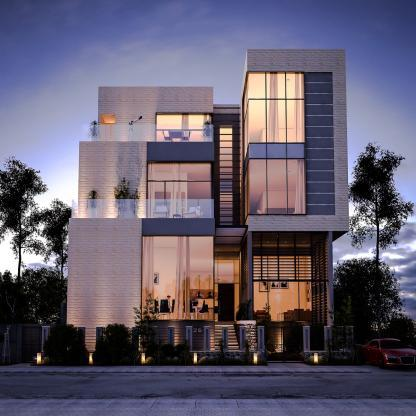Balcony: (72, 199, 215, 219), (82, 125, 213, 142)
Building Outline: (16, 48, 355, 363)
Door: (22, 327, 42, 362), (148, 182, 165, 219), (218, 284, 235, 321), (105, 123, 115, 142)
Facade: (15, 48, 356, 362)
Floor Slab: (242, 215, 350, 245), (79, 142, 214, 160), (69, 219, 215, 235), (244, 144, 305, 176)
Glass Wall: (143, 237, 214, 319), (254, 255, 313, 321)
Window: (244, 73, 305, 161), (244, 159, 306, 222), (148, 163, 212, 219), (158, 114, 211, 141), (220, 127, 233, 225), (214, 252, 240, 283), (235, 284, 239, 321), (214, 284, 218, 321)
